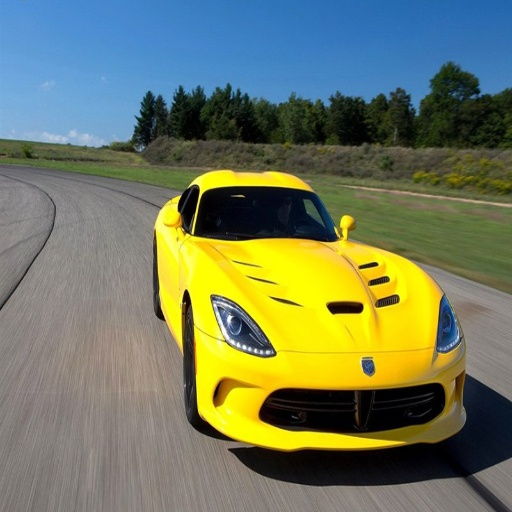back_bumper: (303, 346, 462, 442)
front_bumper: (188, 332, 382, 448)
front_right_light: (213, 298, 268, 355)
